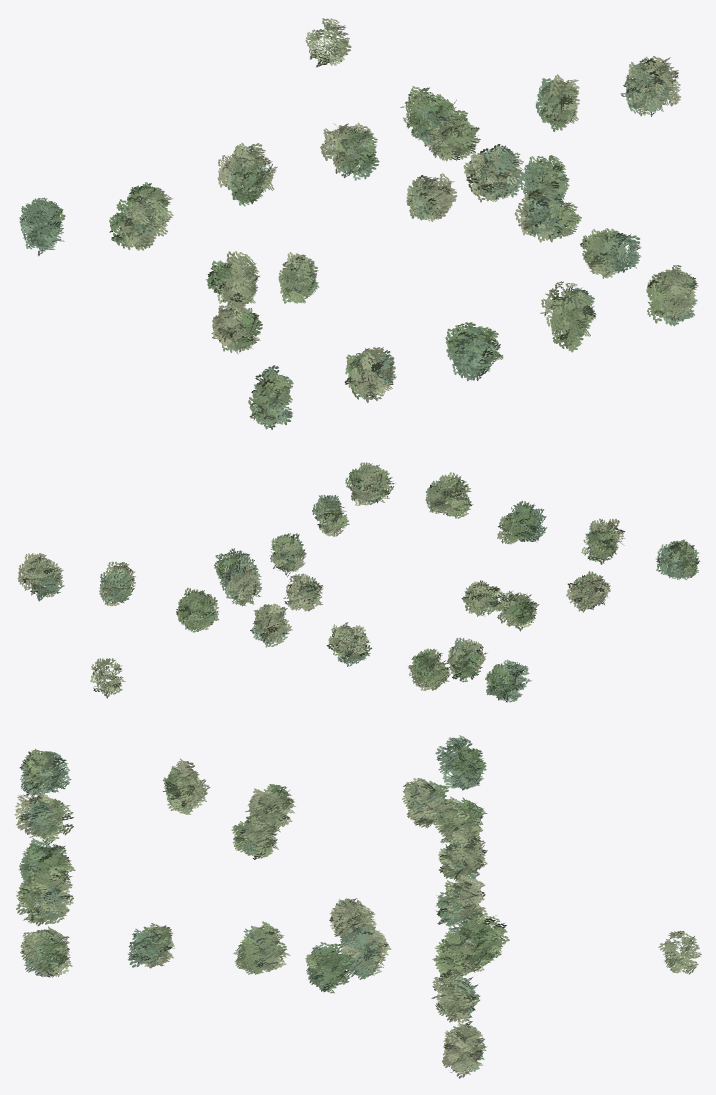
File: campus-tree-0_-1-middle.glb
The picture shows the model from 3 angles, top to bottom: view 1: azimuth 30°, elevation 25°; view 2: azimuth 150°, elevation 25°; view 3: azimuth 270°, elevation 25°; orthographic projection. The views are drawn at different scales.
Parts seen in each view (by area): view 1: Campus leaf canopy; view 2: Campus leaf canopy; view 3: Campus leaf canopy.
Part boxes in pixels (x1,y1,x2,y2): Campus leaf canopy: (19, 18, 698, 429); Campus leaf canopy: (17, 462, 700, 702); Campus leaf canopy: (14, 735, 701, 1078).
Bounding box in the file's own units: 73.84 × 7.63 × 71.54.
1 material, 1 textured.
